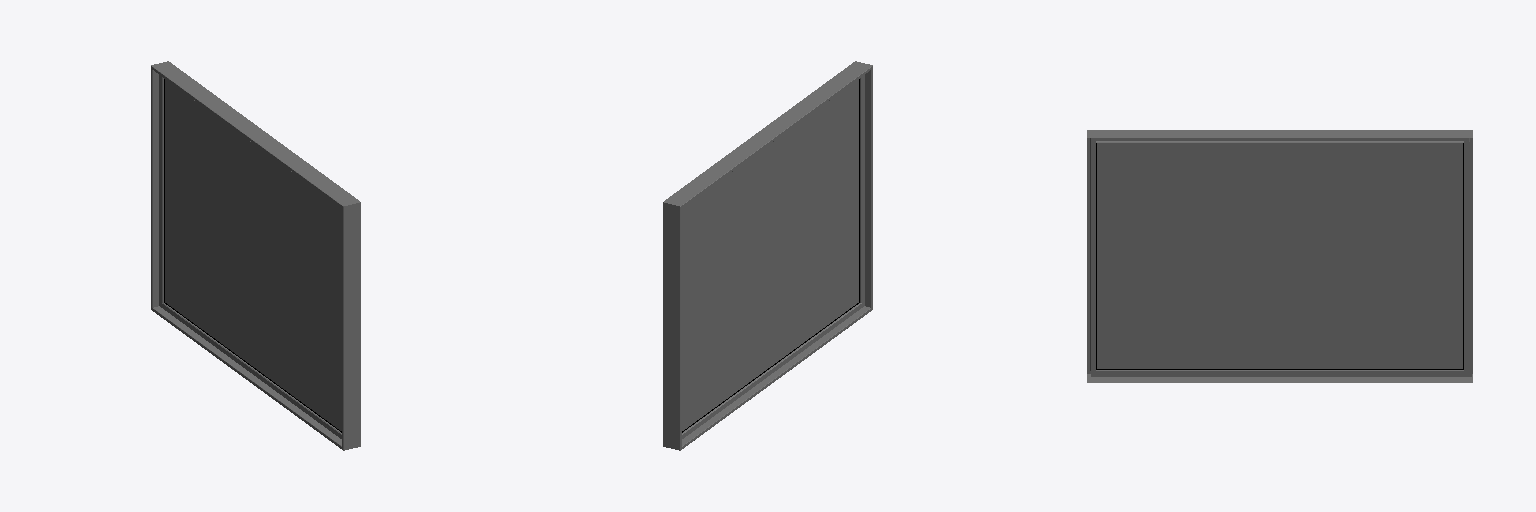
File: window.obj
3 views of the same model, side by side, from view 1: azimuth 30°, elevation 25°; view 2: azimuth 150°, elevation 25°; view 3: azimuth 270°, elevation 25° (orthographic).
Visible parts, largest first — view 1: pCube14; view 2: pCube14; view 3: pCube14.
Boxes of the visible parts, x1,y1,x2,y2 form: pCube14: [151, 61, 360, 450]; pCube14: [663, 61, 872, 450]; pCube14: [1087, 130, 1472, 382].
Bounding box in the file's own units: 0.1078 × 1.4 × 2.